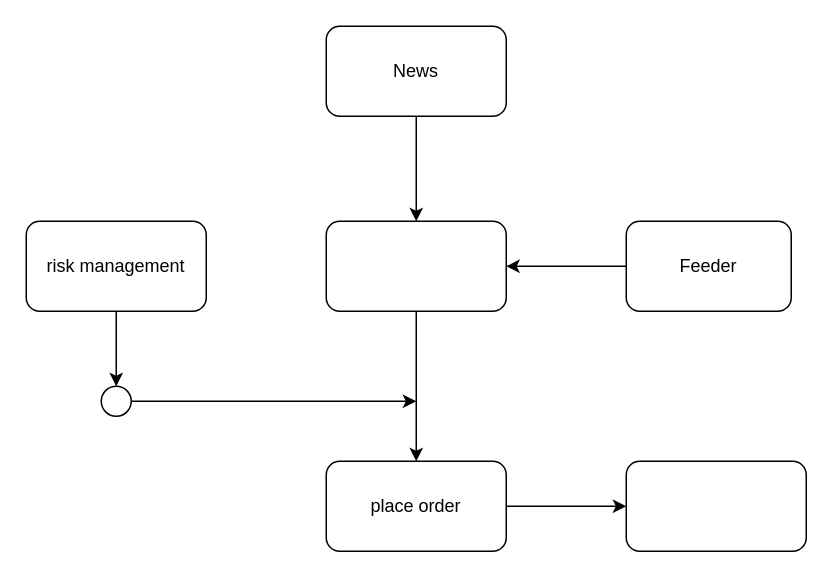
Image size: 833x578. Some labels were removed from this diagram. Here are the shapes that lost their labels. From the top down, the box of each, then its label:
(325, 220, 506, 311): Trader
(625, 460, 806, 551): Order History
